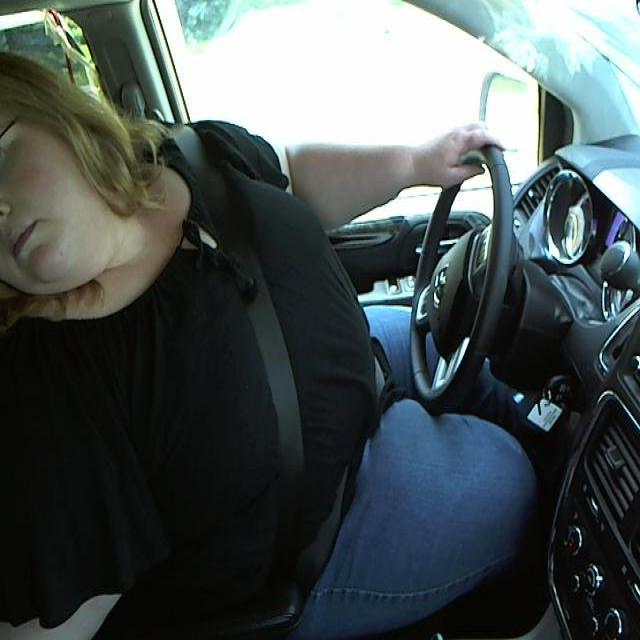seatbelt: (195, 186, 333, 594)
